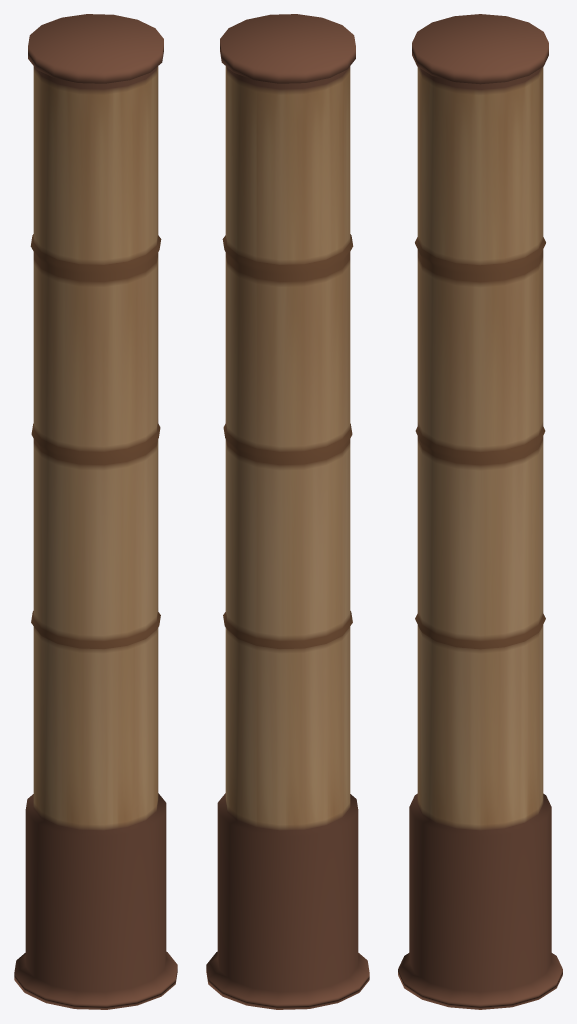
The model's file is BambooPillar01.fbx.
The picture shows the model from 3 angles, left to right: view 1: azimuth 30°, elevation 25°; view 2: azimuth 150°, elevation 25°; view 3: azimuth 270°, elevation 25°; orthographic projection.
Visible parts, largest first — view 1: pCylinder1; view 2: pCylinder1; view 3: pCylinder1.
Part boxes in pixels (x1,y1,x2,y2): pCylinder1: (14, 14, 177, 1009); pCylinder1: (206, 14, 369, 1009); pCylinder1: (398, 14, 562, 1009).
Bounding box in the file's own units: 0.6456 × 4.03 × 0.6456.
